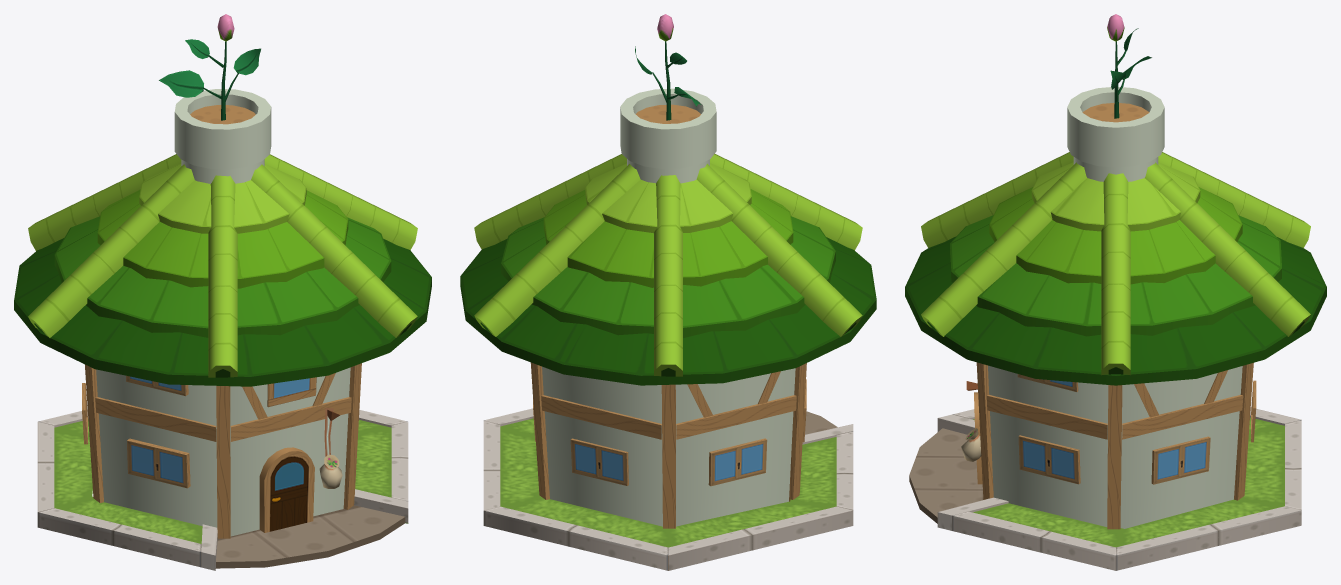
The model's file is building_Herbal_lv4.FBX.
3 renders of one model, left to right at view 1: azimuth 30°, elevation 25°; view 2: azimuth 150°, elevation 25°; view 3: azimuth 270°, elevation 25°, orthographic.
Parts seen in each view (by area): view 1: building_Herbal_roof_lv4, building_Herbal_lv4, building_Herbal_main_lv4, building_Herbal_plant_lv4; view 2: building_Herbal_roof_lv4, building_Herbal_lv4, building_Herbal_main_lv4, building_Herbal_plant_lv4; view 3: building_Herbal_roof_lv4, building_Herbal_lv4, building_Herbal_main_lv4, building_Herbal_plant_lv4.
Part boxes in pixels (bbox=[...]): building_Herbal_roof_lv4: bbox=[14, 154, 431, 386]; building_Herbal_lv4: bbox=[37, 363, 408, 570]; building_Herbal_main_lv4: bbox=[96, 89, 350, 536]; building_Herbal_plant_lv4: bbox=[159, 14, 260, 120]; building_Herbal_roof_lv4: bbox=[460, 154, 876, 385]; building_Herbal_lv4: bbox=[483, 362, 853, 570]; building_Herbal_main_lv4: bbox=[542, 88, 795, 526]; building_Herbal_plant_lv4: bbox=[635, 14, 700, 120]; building_Herbal_roof_lv4: bbox=[905, 152, 1326, 385]; building_Herbal_lv4: bbox=[909, 362, 1301, 570]; building_Herbal_main_lv4: bbox=[988, 87, 1242, 528]; building_Herbal_plant_lv4: bbox=[1107, 14, 1151, 118].
Size of the model in its own units: 571 by 683 by 544.
